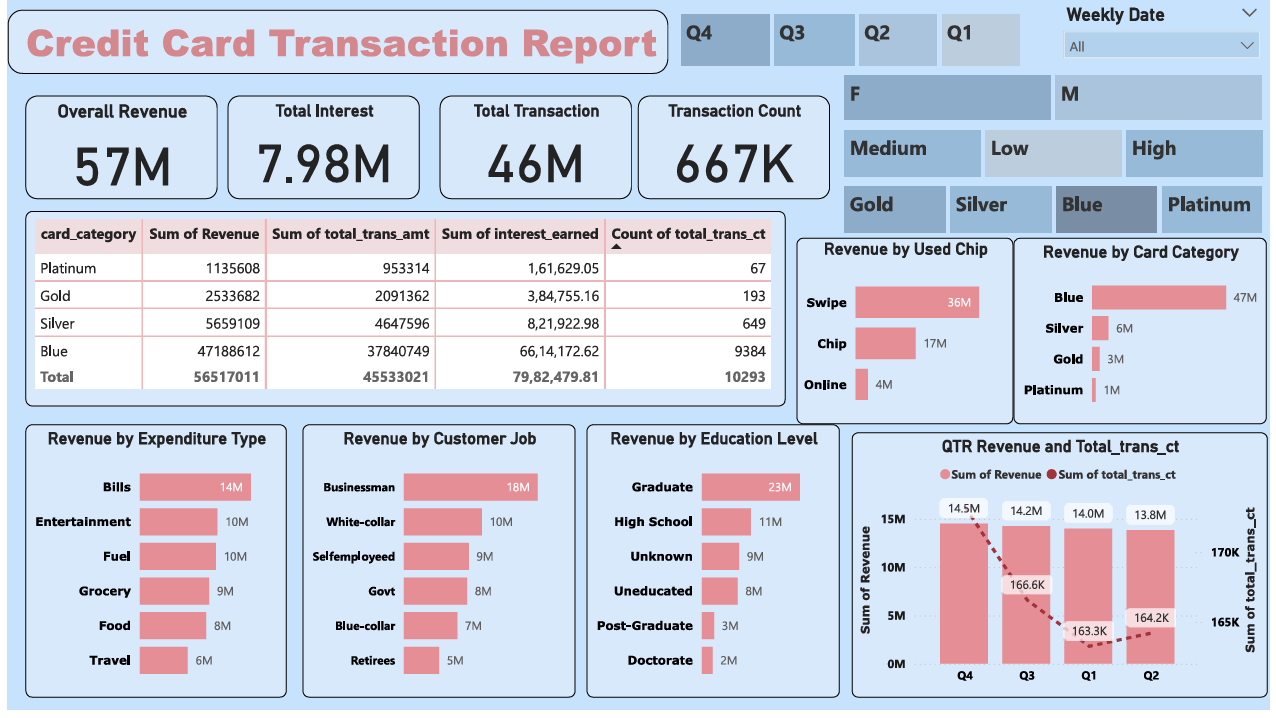

This screenshot's page, from the dashboard's own definition file:
{"tool":"powerbi","page":{"name":"CC Transaction","canvas":[1280,720],"ordinal":0},"visuals":[{"type":"textbox","box":[0,11.4,670,65],"z":0},{"type":"lineStackedColumnComboChart","title":"QTR Revenue and Total_trans_ct","fields":{"Category":["public credit_card_details.qtr"],"Y":["Sum(public credit_card_details.Revenue)"],"Y2":["Sum(public credit_card_details.total_trans_ct)"]},"box":[855.6,439.2,422.9,268.4],"z":1000},{"type":"barChart","title":"Revenue by Expenditure Type","fields":{"Y":["Sum(public credit_card_details.Revenue)"],"Category":["public credit_card_details.exp_type"]},"box":[17.9,431,265.1,276.5],"z":2000},{"type":"barChart","title":"Revenue by Card Category","fields":{"Y":["Sum(public credit_card_details.Revenue)"],"Category":["public credit_card_details.card_category"]},"box":[1019.8,242.4,257,188.7],"z":3000},{"type":"barChart","title":"Revenue by Customer Job","fields":{"Y":["Sum(public credit_card_details.Revenue)"],"Category":["public customer_details.customer_job"]},"box":[299.3,431,276.5,276.5],"z":4000},{"type":"barChart","title":"Revenue by Education Level","fields":{"Y":["Sum(public credit_card_details.Revenue)"],"Category":["public customer_details.education_level"]},"box":[587.2,431,257,276.5],"z":5000},{"type":"barChart","title":"Revenue by Used Chip","fields":{"Y":["Sum(public credit_card_details.Revenue)"],"Category":["public credit_card_details.use_chip"]},"box":[800.3,242.4,219.6,188.7],"z":6000},{"type":"tableEx","fields":{"Values":["public credit_card_details.card_category","Sum(public credit_card_details.Revenue)","Sum(public credit_card_details.total_trans_amt)","Sum(public credit_card_details.interest_earned)","CountNonNull(public credit_card_details.total_trans_ct)"]},"box":[17.9,214.7,771,198.4],"z":7000},{"type":"card","title":"Overall Revenue","fields":{"Values":["Sum(public credit_card_details.Revenue)"]},"box":[17.9,97.6,195,105],"z":8000},{"type":"card","title":"Total Interest","fields":{"Values":["Sum(public credit_card_details.interest_earned)"]},"box":[222.8,97.6,195,105],"z":9000},{"type":"card","title":"Total Transaction","fields":{"Values":["Sum(public credit_card_details.total_trans_amt)"]},"box":[437.5,97.6,195,105.7],"z":10000},{"type":"card","title":"Transaction Count","fields":{"Values":["Sum(public credit_card_details.total_trans_ct)"]},"box":[639.2,97.6,195.2,105.7],"z":11000},{"type":"slicer","fields":{"Values":["public credit_card_details.week_start_date"]},"box":[1060.5,0,219.6,73.2],"z":12000},{"type":"treemap","fields":{"Group":["public credit_card_details.qtr"],"Values":["Avg(public credit_card_details.client_num)"]},"box":[678.3,11.4,353,61.8],"z":13000},{"type":"treemap","fields":{"Group":["public customer_details.gender"],"Values":["Avg(public credit_card_details.client_num)"]},"box":[844.2,73.2,432.7,55.3],"z":14000},{"type":"treemap","fields":{"Group":["public customer_details.IncomeCatagory"],"Values":["Avg(public credit_card_details.client_num)"]},"box":[844.2,128.5,434.3,56.9],"z":15000},{"type":"treemap","fields":{"Group":["public credit_card_details.card_category"],"Values":["Avg(public credit_card_details.client_num)"]},"box":[844.2,185.4,432.7,56.9],"z":16000}]}

Visuals, with their boxes in screenshot pixels (x1, y1, x2, y2), scaled from the page's 1280x720 canvas onto the 1276x718 screenshot:
textbox: (x1=0, y1=11, x2=668, y2=76)
"QTR Revenue and Total_trans_ct" lineStackedColumnComboChart: (x1=853, y1=438, x2=1275, y2=706)
"Revenue by Expenditure Type" barChart: (x1=18, y1=430, x2=282, y2=706)
"Revenue by Card Category" barChart: (x1=1017, y1=242, x2=1273, y2=430)
"Revenue by Customer Job" barChart: (x1=298, y1=430, x2=574, y2=706)
"Revenue by Education Level" barChart: (x1=585, y1=430, x2=842, y2=706)
"Revenue by Used Chip" barChart: (x1=798, y1=242, x2=1017, y2=430)
tableEx - public credit_card_details.card_category x Sum(public credit_card_details.Revenue): (x1=18, y1=214, x2=786, y2=412)
"Overall Revenue" card: (x1=18, y1=97, x2=212, y2=202)
"Total Interest" card: (x1=222, y1=97, x2=416, y2=202)
"Total Transaction" card: (x1=436, y1=97, x2=631, y2=203)
"Transaction Count" card: (x1=637, y1=97, x2=832, y2=203)
slicer - public credit_card_details.week_start_date: (x1=1057, y1=0, x2=1275, y2=73)
treemap - public credit_card_details.qtr x Avg(public credit_card_details.client_num): (x1=676, y1=11, x2=1028, y2=73)
treemap - public customer_details.gender x Avg(public credit_card_details.client_num): (x1=842, y1=73, x2=1273, y2=128)
treemap - public customer_details.IncomeCatagory x Avg(public credit_card_details.client_num): (x1=842, y1=128, x2=1275, y2=185)
treemap - public credit_card_details.card_category x Avg(public credit_card_details.client_num): (x1=842, y1=185, x2=1273, y2=242)
